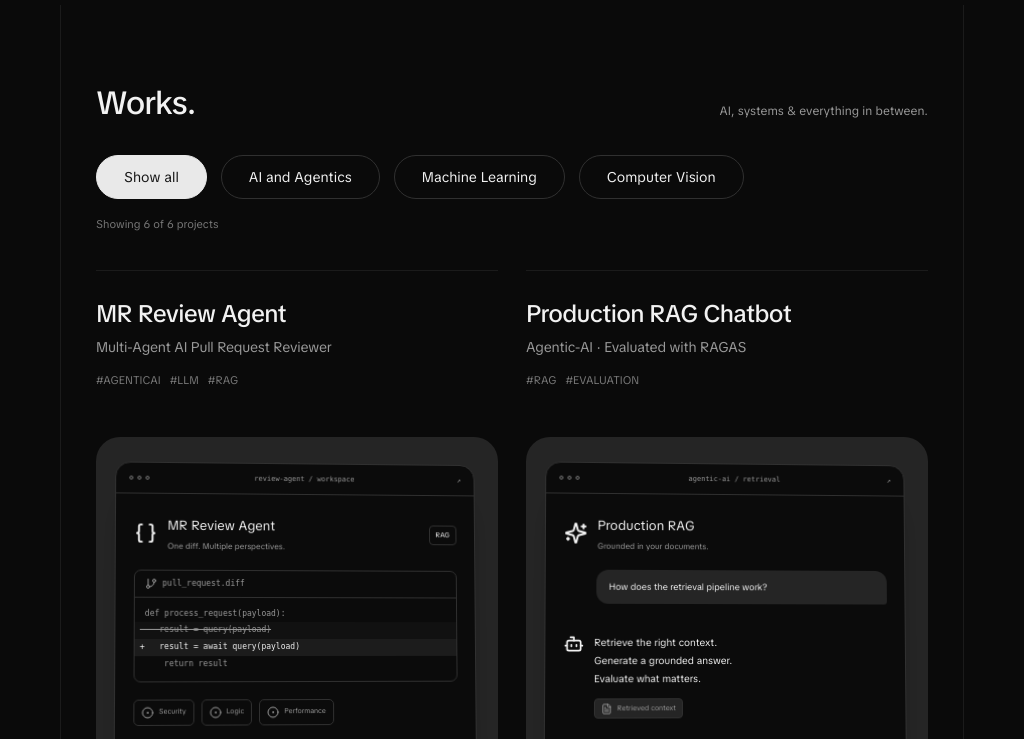
Scenario: Project browsing › retains case studies and repository links within filtered results
Click the button "AI and Agentics" at {"x": 300, "y": 177}, box [221,155,380,199]
(page scrolled)
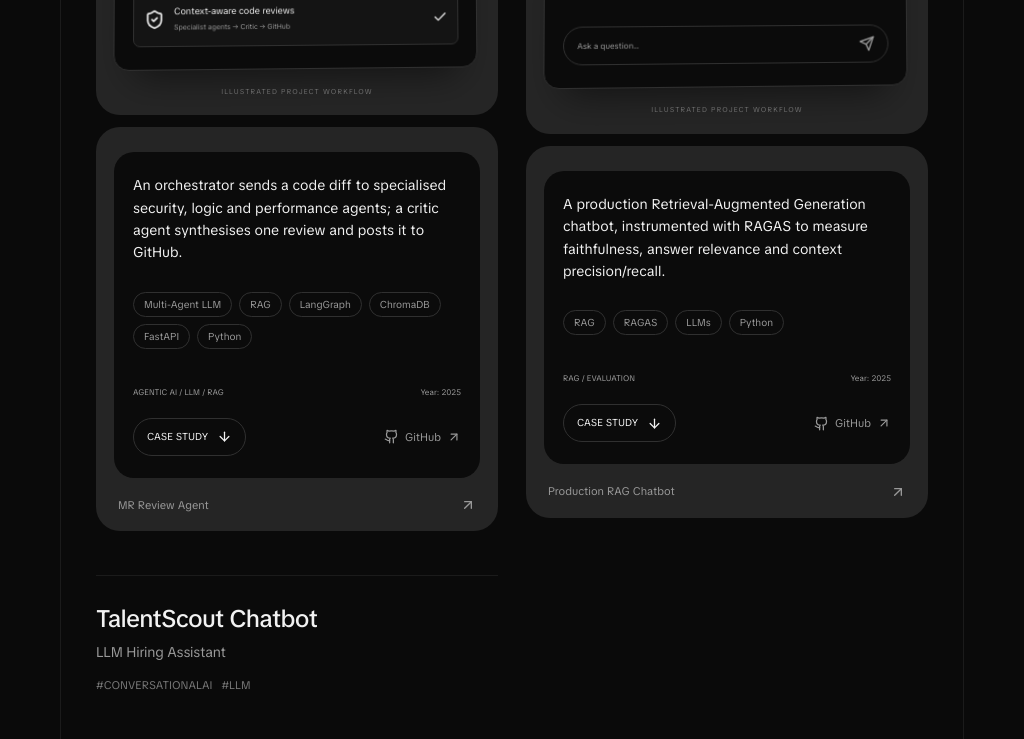
Click the button with aria-label "Read case study: MR Review Agent" at {"x": 190, "y": 437}, box [133,418,246,456]
(page scrolled)
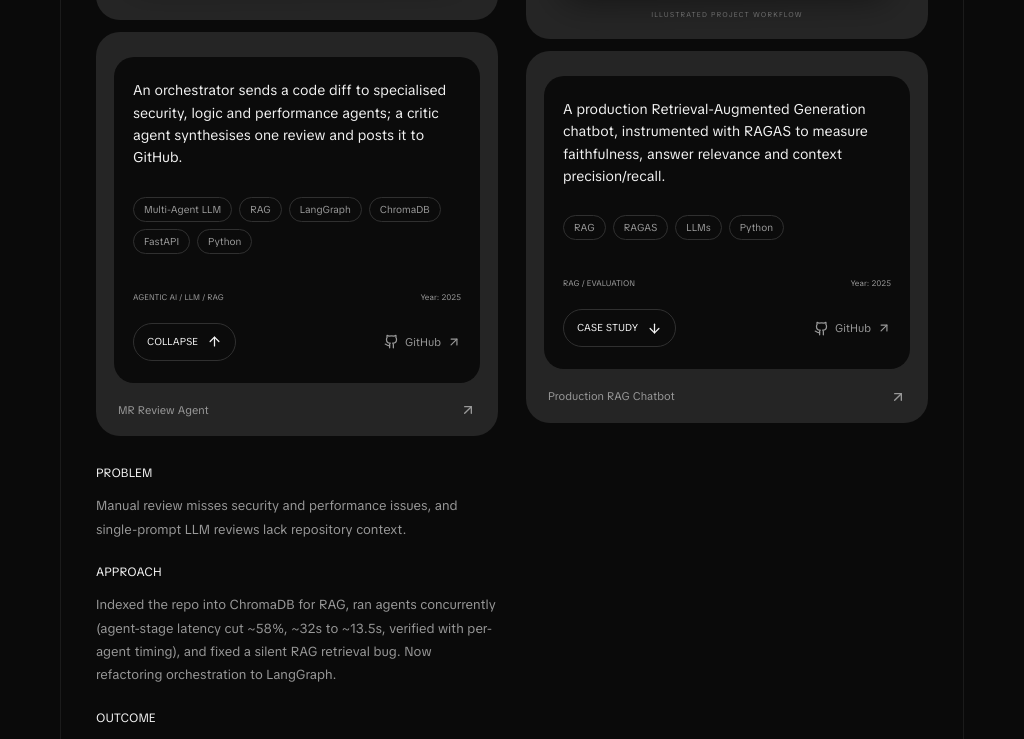
Now the text "agent-stage latency cut ~58%" is shown, box [96,596,496,683]
